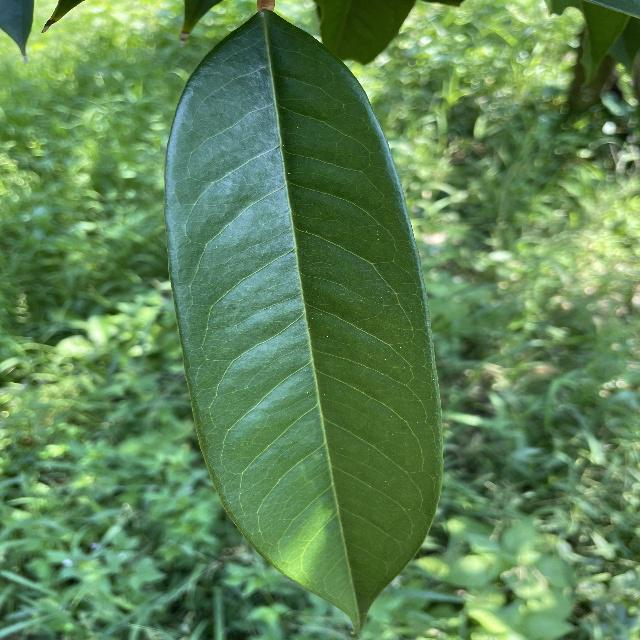No Disease: (157, 1, 461, 636)
